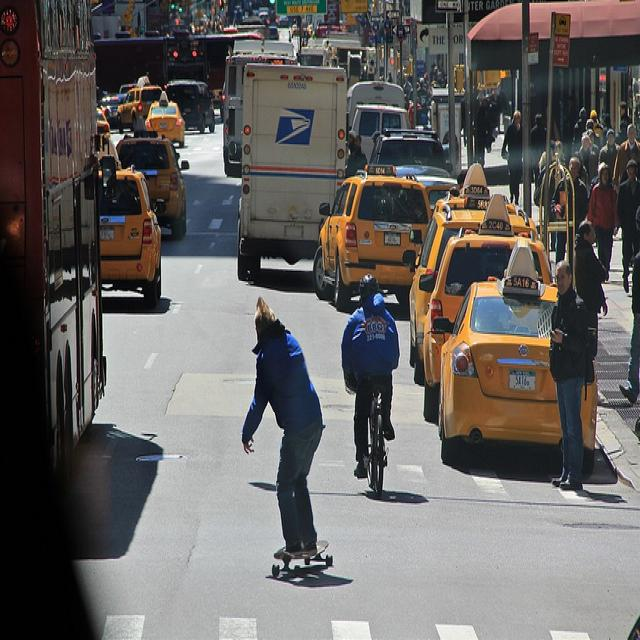Vehicle: (0, 1, 103, 488), (439, 241, 600, 473), (418, 192, 554, 421), (404, 164, 535, 384), (240, 69, 344, 285), (311, 174, 434, 313), (223, 48, 298, 174), (100, 170, 163, 306), (116, 130, 190, 240), (351, 102, 415, 166), (366, 129, 454, 172), (166, 79, 215, 133), (116, 86, 163, 137), (144, 91, 185, 148)
